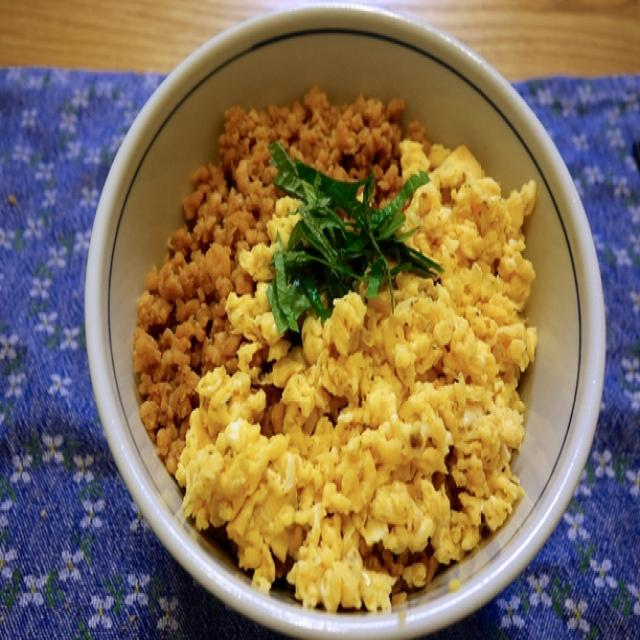鸡蛋料理: (73, 0, 617, 637)
